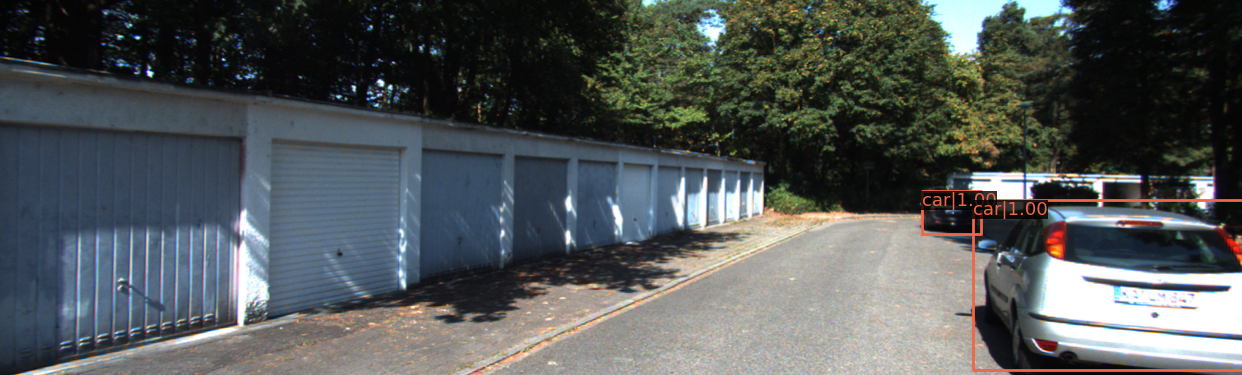car: (983, 199, 1242, 375), (925, 191, 980, 232)
